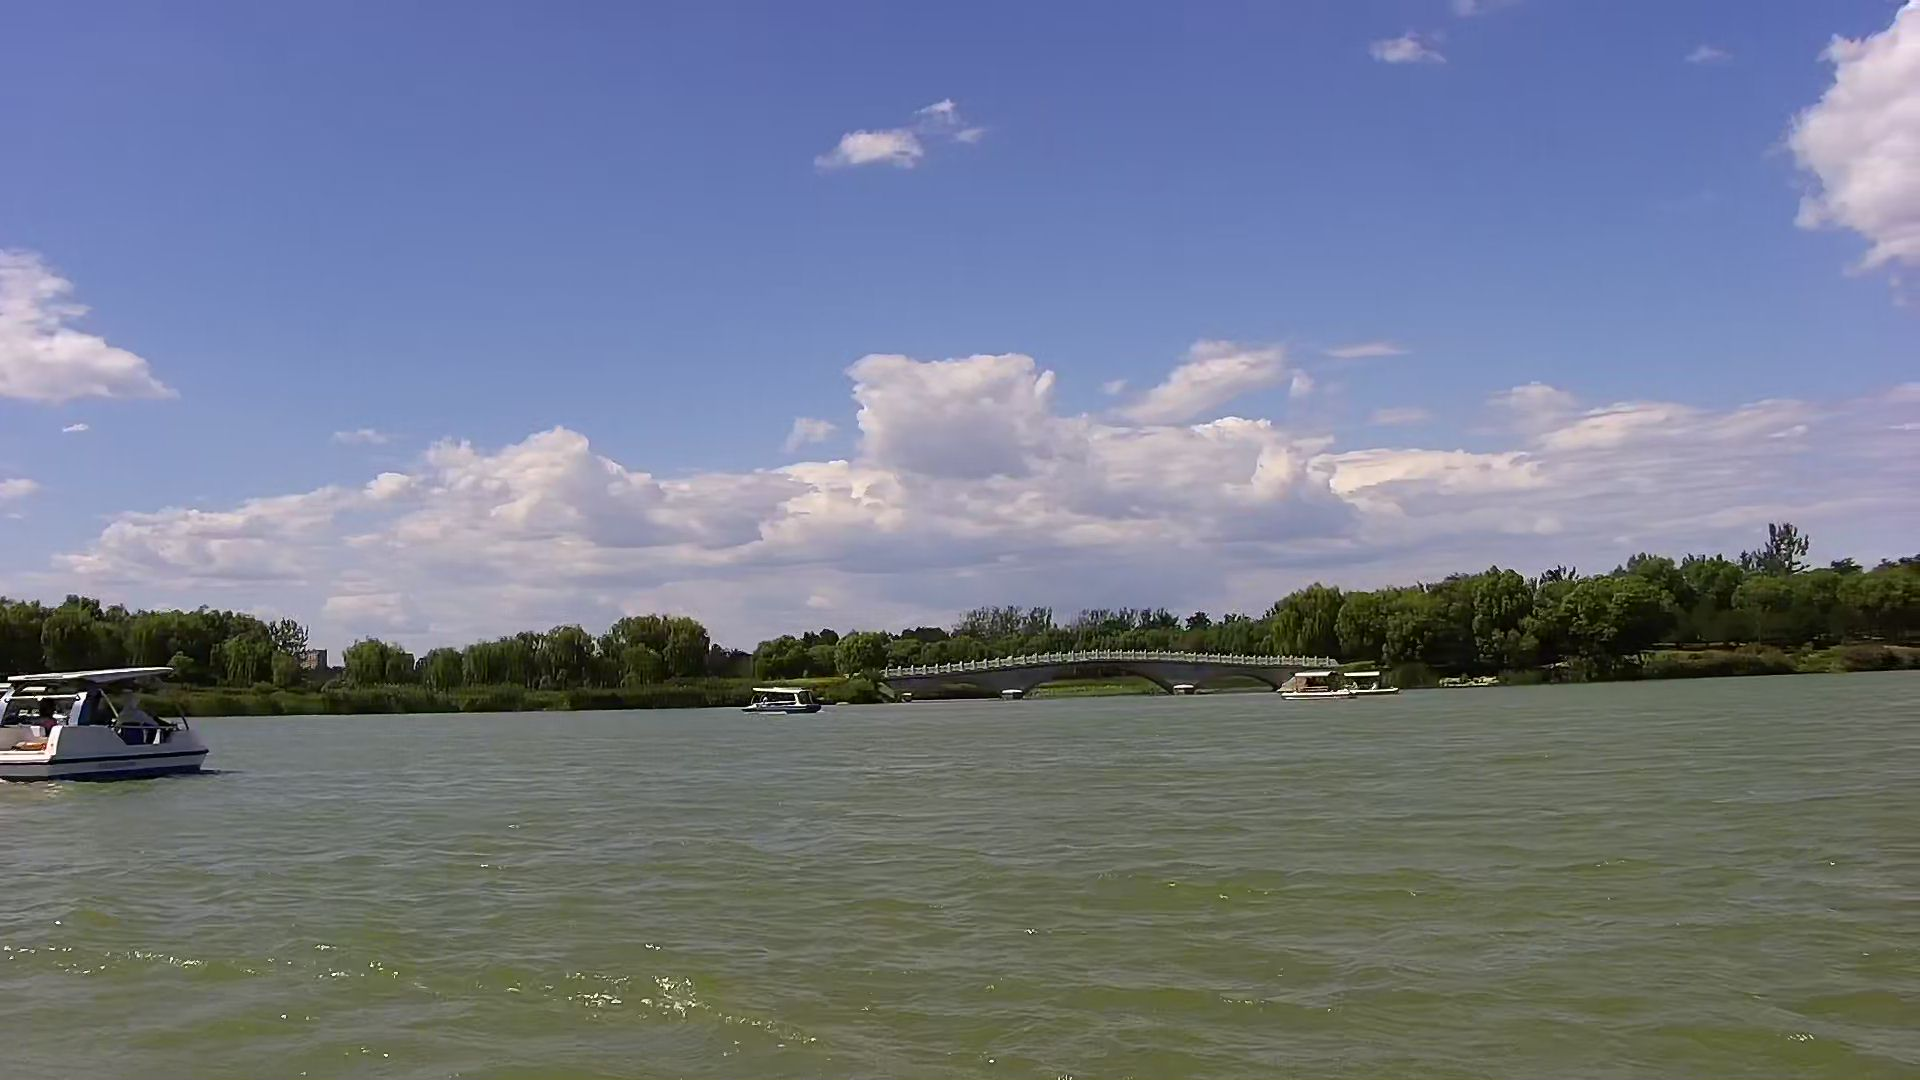boat: (8, 659, 210, 782), (1338, 650, 1403, 709), (1280, 663, 1356, 709), (738, 680, 829, 717)
bridge: (873, 644, 1299, 713)
